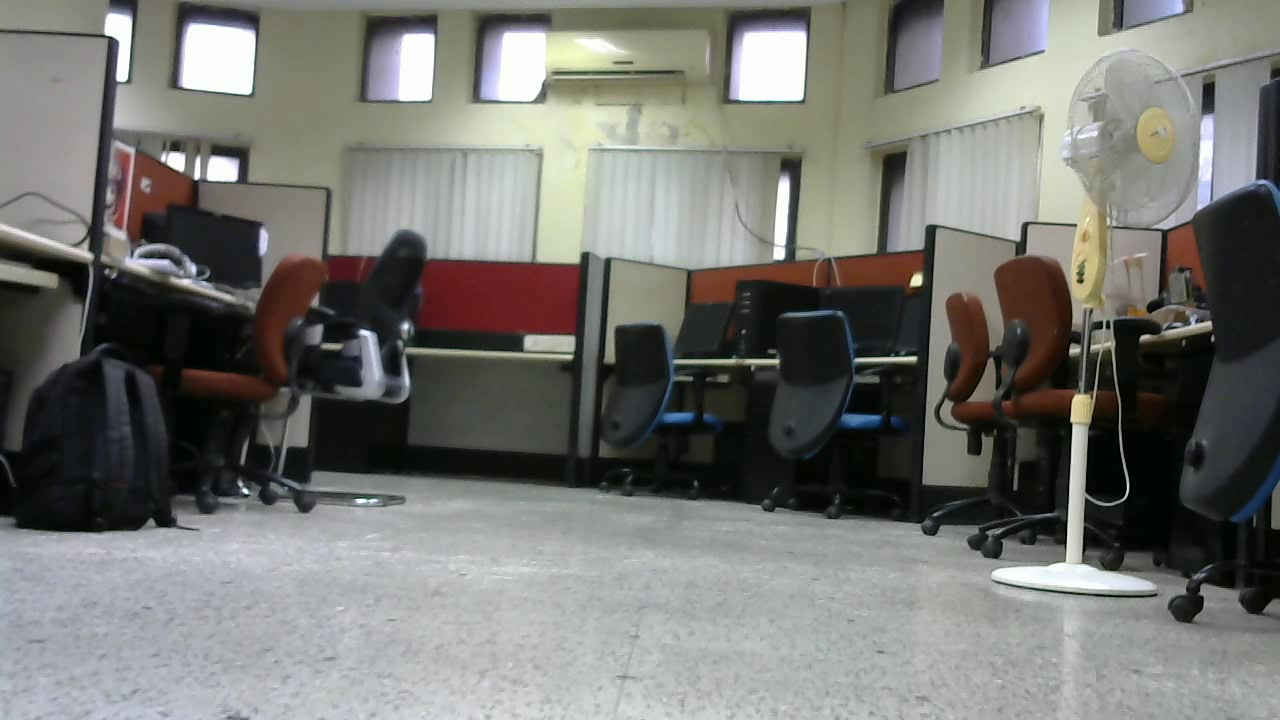chair: (989, 252, 1148, 563), (151, 249, 333, 505), (761, 305, 909, 520), (308, 223, 418, 508), (925, 291, 1048, 545), (591, 323, 740, 500)
